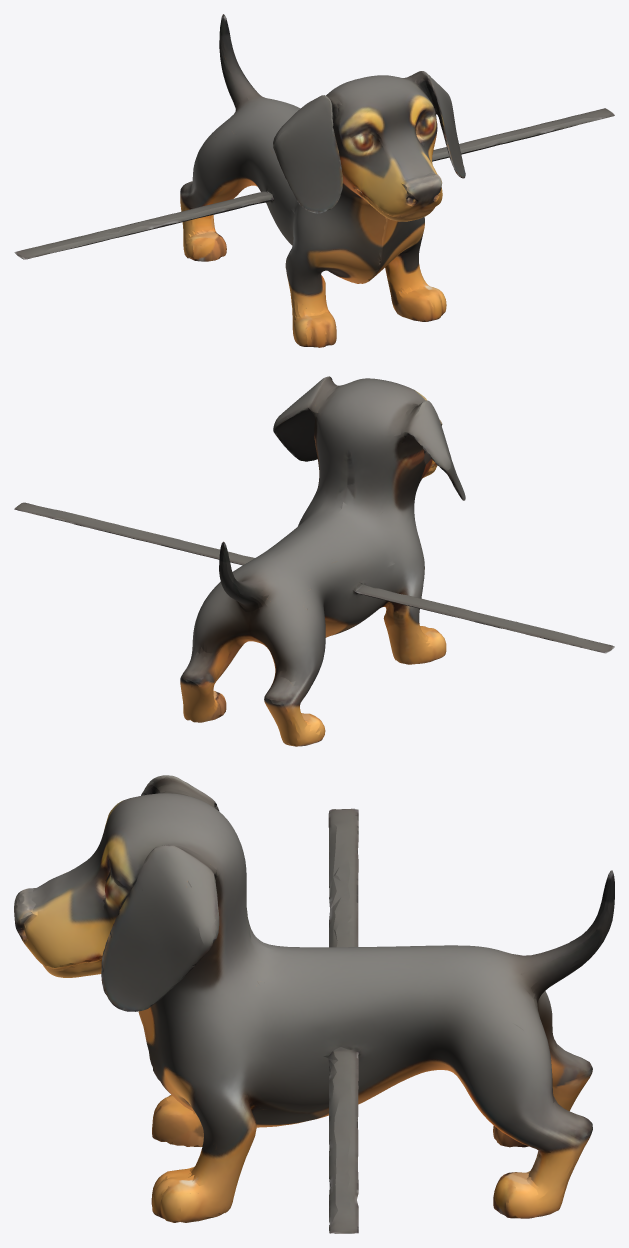
File: blaze.glb
3 renders of one model, top to bottom at view 1: azimuth 30°, elevation 25°; view 2: azimuth 150°, elevation 25°; view 3: azimuth 270°, elevation 25°, orthographic. The views are drawn at different scales.
Parts seen in each view (by area): view 1: Blaze_Mascot; view 2: Blaze_Mascot; view 3: Blaze_Mascot.
Part boxes in pixels (box(x1,y1,x2,y2)): Blaze_Mascot: box(14, 14, 614, 347); Blaze_Mascot: box(14, 376, 614, 746); Blaze_Mascot: box(14, 775, 614, 1233).
Size of the model in its own units: 1.89 by 0.7561 by 1.13.
1 material, 1 textured.
